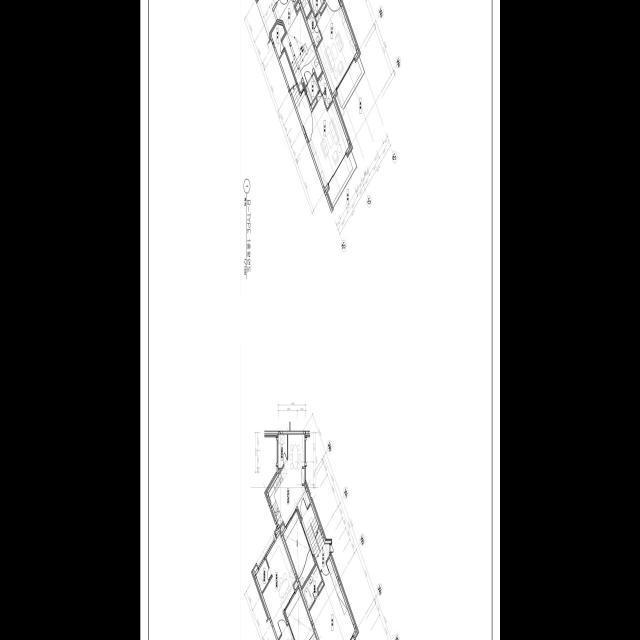background: (140, 0, 500, 640)
space_bedroom: (309, 558, 355, 640)
space_front: (306, 73, 319, 105), (309, 0, 323, 17)
space_kitchen: (268, 434, 310, 527), (262, 533, 296, 639)
space_living_room: (303, 91, 349, 189), (315, 0, 357, 94)
space_multipurpose_space: (255, 559, 271, 593), (278, 434, 287, 468)
space_other: (283, 511, 314, 587), (285, 588, 316, 640), (279, 51, 296, 90), (271, 24, 285, 58), (320, 3, 325, 14), (318, 582, 323, 592), (311, 99, 316, 109), (294, 581, 298, 590)
space_staircase: (302, 504, 329, 572), (290, 85, 311, 127)
space_toilet: (302, 565, 322, 610), (318, 73, 332, 109), (307, 12, 321, 47)
